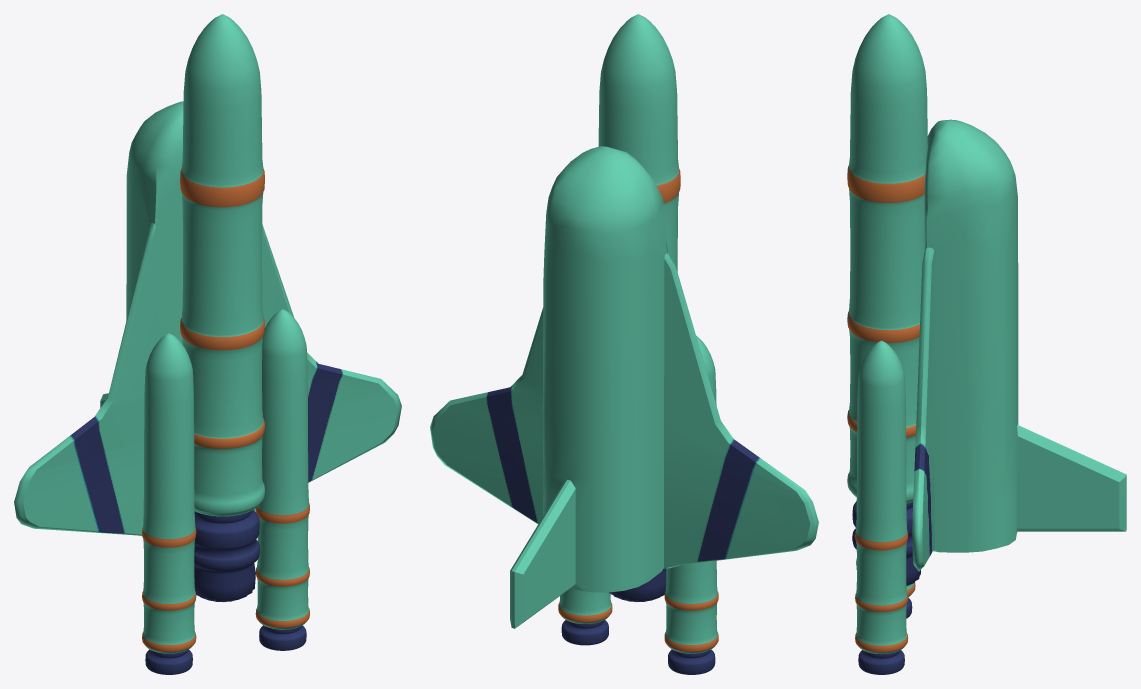
Rendered from spaceshuttle@card.fbx.
3 views of the same model, side by side, from view 1: azimuth 30°, elevation 25°; view 2: azimuth 150°, elevation 25°; view 3: azimuth 270°, elevation 25° (orthographic). The views are drawn at different scales.
Parts seen in each view (by area): view 1: spaceshuttle:polySurface228; view 2: spaceshuttle:polySurface228; view 3: spaceshuttle:polySurface228.
Boxes of the visible parts, x1=… form: spaceshuttle:polySurface228: x1=14, y1=14, x2=401, y2=674; spaceshuttle:polySurface228: x1=430, y1=14, x2=818, y2=674; spaceshuttle:polySurface228: x1=847, y1=14, x2=1126, y2=674.
Size of the model in its own units: 16.62 by 26.1 by 10.58.
Materials: 1 (1 with a texture image).
